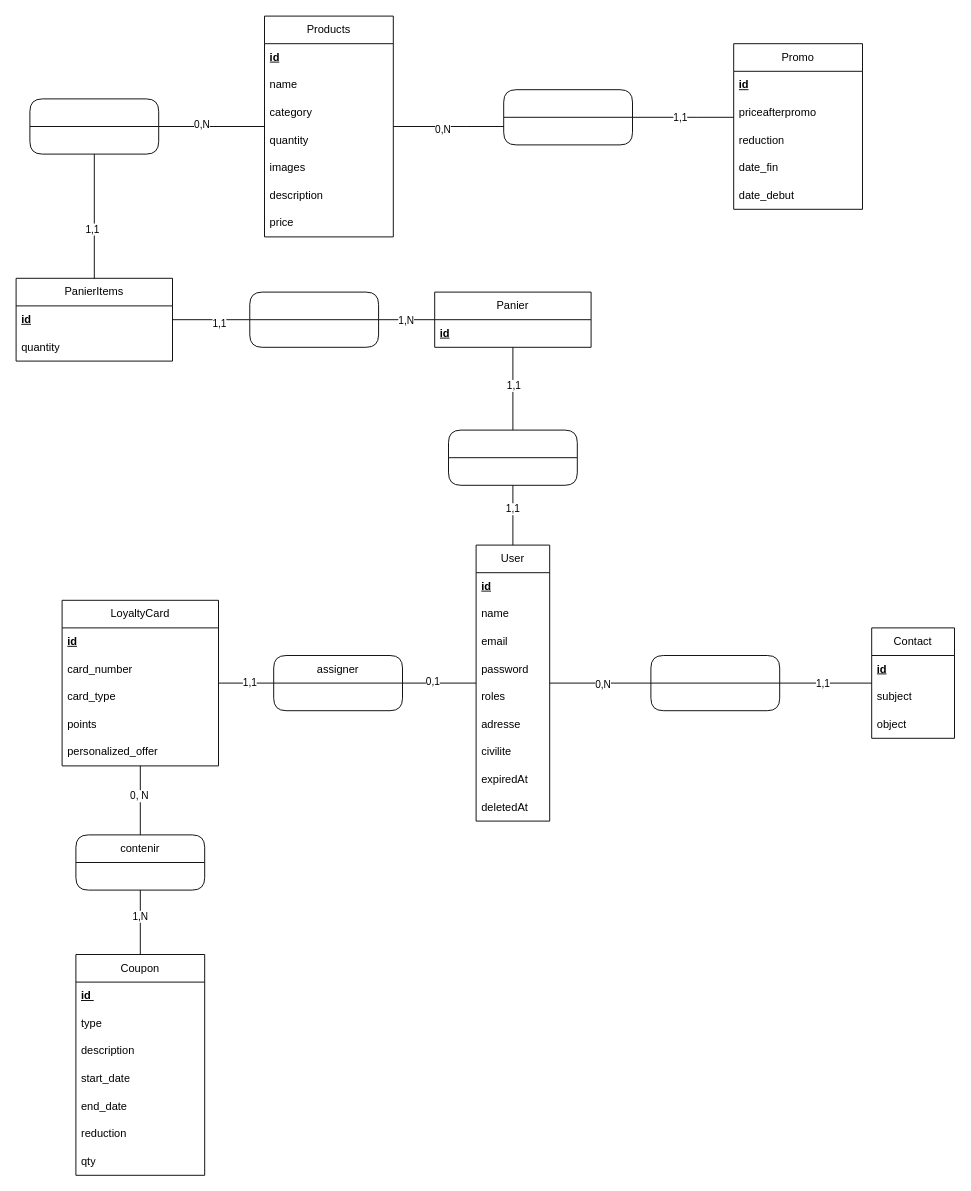
This 971x1191 diagram has some shape labels left out. Here are the shapes that lost their labels. From the top down, the centre of each, then its label:
[94,126]: ajouter
[567,117]: affecter
[314,319]: avoir
[512,457]: possède
[715,683]: demander
